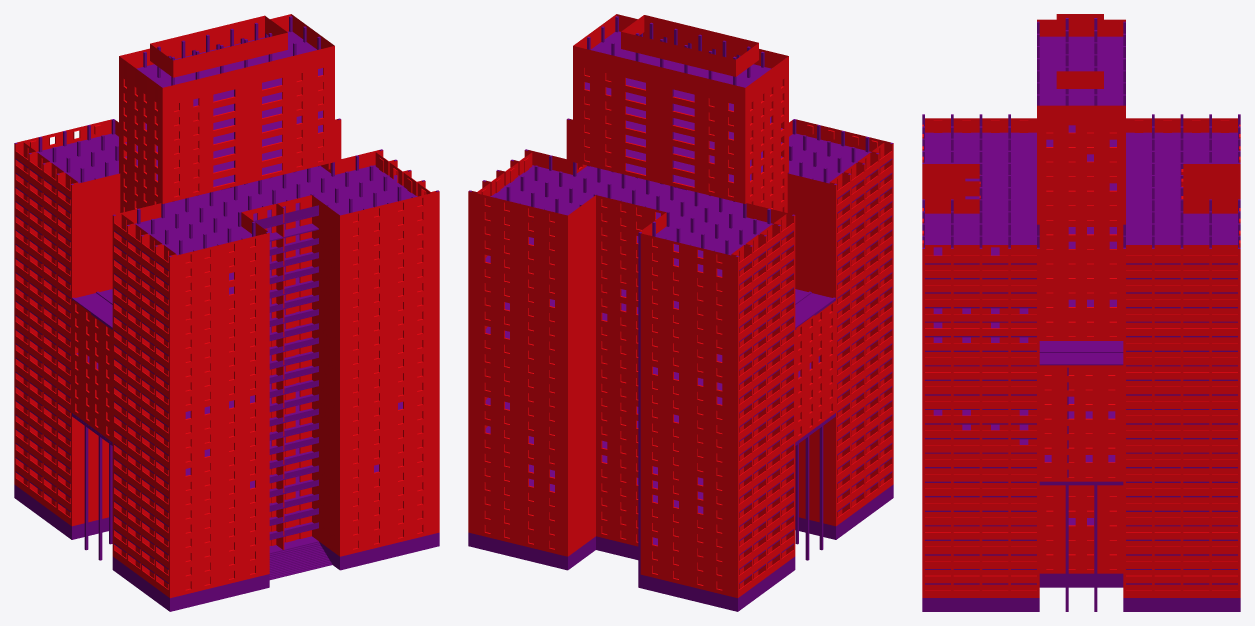
File: Building_02_1.FBX
The picture shows the model from 3 angles, left to right: view 1: azimuth 30°, elevation 25°; view 2: azimuth 150°, elevation 25°; view 3: azimuth 270°, elevation 25°; orthographic projection. The views are drawn at different scales.
Parts seen in each view (by area): view 1: Building_02_1; view 2: Building_02_1; view 3: Building_02_1.
Boxes of the visible parts, left/top/right/bottom form: Building_02_1: left=14, top=14, right=439, bottom=611; Building_02_1: left=468, top=14, right=893, bottom=611; Building_02_1: left=922, top=14, right=1240, bottom=611.
Bounding box in the file's own units: 89584 × 154541 × 89614.
